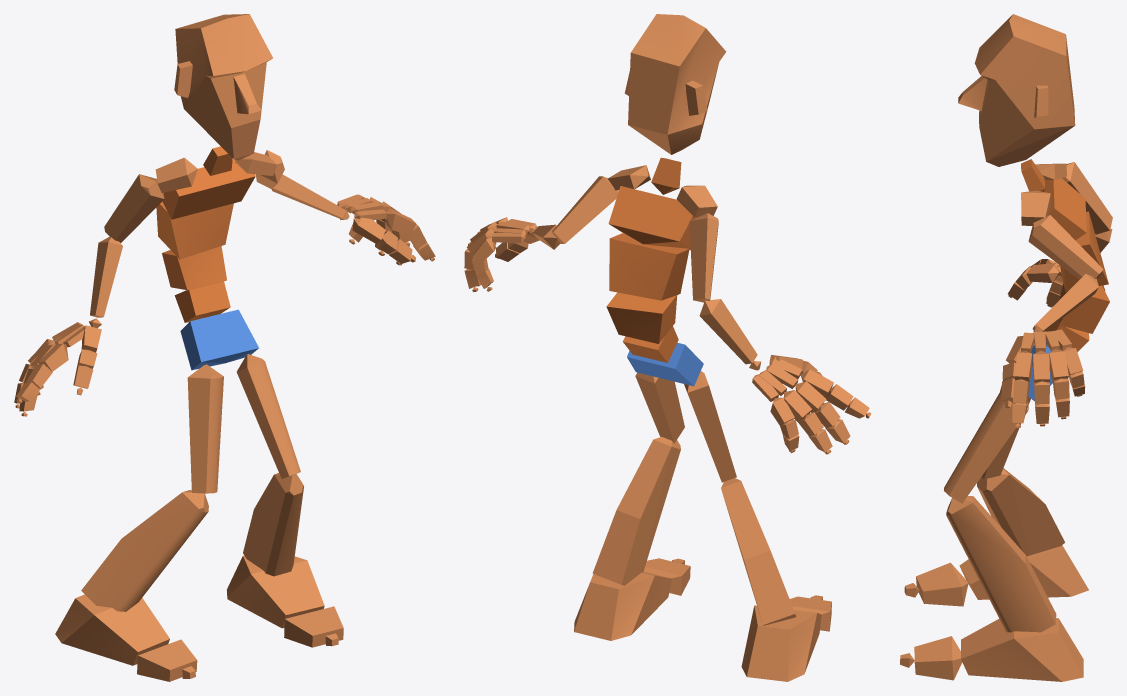
The model's file is prueba150.obj.
3 views of the same model, side by side, from view 1: azimuth 30°, elevation 25°; view 2: azimuth 150°, elevation 25°; view 3: azimuth 270°, elevation 25° (orthographic). The views are drawn at different scales.
Visible parts, largest first — view 1: BOPED_Head, BOPED_R_leg, BOPED_R_foot, BOPED_L_leg, BOPED_R_foot01, BOPED_R_legup, BOPED_L_legup, Bone01, Bone04, Bone05, BOPED_R_arm_upper, Bone03 (+7 smaller); view 2: BOPED_Head, BOPED_L_leg, BOPED_R_foot01, BOPED_R_leg, BOPED_R_foot, Bone04, Bone05, Bone03, BOPED_R_legup, BOPED_R_arm_upper, BOPED_L_legup, BOPED_L_arm_upper (+8 smaller); view 3: BOPED_Head, BOPED_L_leg, BOPED_R_foot01, BOPED_R_leg, BOPED_L_legup, BOPED_R_foot, BOPED_L_arm_upper, BOPED_R_foot_toe01, Bone05, BOPED_R_foot_toe04, BOPED_R_arm_upper, Bone03 (+15 smaller).
Boxes of the visible parts, bbox=[...] form: BOPED_Head: bbox=[174, 14, 273, 160]; BOPED_R_leg: bbox=[81, 490, 208, 611]; BOPED_R_foot: bbox=[55, 594, 169, 665]; BOPED_L_leg: bbox=[243, 473, 303, 576]; BOPED_R_foot01: bbox=[227, 555, 324, 628]; BOPED_R_legup: bbox=[187, 364, 223, 493]; BOPED_L_legup: bbox=[236, 354, 300, 478]; Bone01: bbox=[180, 309, 258, 370]; Bone04: bbox=[156, 201, 233, 259]; Bone05: bbox=[162, 159, 255, 219]; BOPED_R_arm_upper: bbox=[104, 174, 164, 242]; Bone03: bbox=[162, 246, 226, 290]; BOPED_Head: bbox=[624, 14, 726, 154]; BOPED_L_leg: bbox=[592, 437, 680, 585]; BOPED_R_foot01: bbox=[574, 571, 671, 640]; BOPED_R_leg: bbox=[721, 478, 795, 625]; BOPED_R_foot: bbox=[741, 605, 821, 681]; Bone04: bbox=[609, 233, 689, 300]; Bone05: bbox=[608, 186, 697, 249]; Bone03: bbox=[606, 292, 677, 343]; BOPED_R_legup: bbox=[684, 371, 736, 482]; BOPED_R_arm_upper: bbox=[689, 213, 718, 302]; BOPED_L_legup: bbox=[635, 372, 684, 443]; BOPED_L_arm_upper: bbox=[552, 176, 618, 243]; BOPED_Head: bbox=[958, 14, 1075, 166]; BOPED_L_leg: bbox=[946, 496, 1056, 632]; BOPED_R_foot01: bbox=[961, 618, 1083, 681]; BOPED_R_leg: bbox=[977, 468, 1064, 556]; BOPED_L_legup: bbox=[944, 390, 1028, 503]; BOPED_R_foot: bbox=[959, 545, 1088, 599]; BOPED_L_arm_upper: bbox=[1028, 215, 1103, 279]; BOPED_R_foot_toe01: bbox=[916, 562, 968, 606]; Bone05: bbox=[1044, 178, 1086, 240]; BOPED_R_foot_toe04: bbox=[914, 636, 962, 680]; BOPED_R_arm_upper: bbox=[1062, 162, 1112, 234]; Bone03: bbox=[1058, 283, 1109, 333].
Bounding box in the file's own units: 130 × 184 × 57.25.
